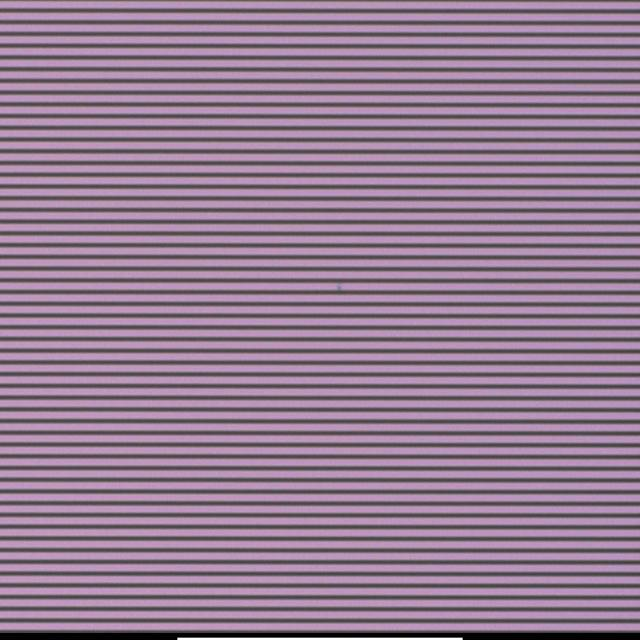nonvisual: (332, 283, 346, 295)
